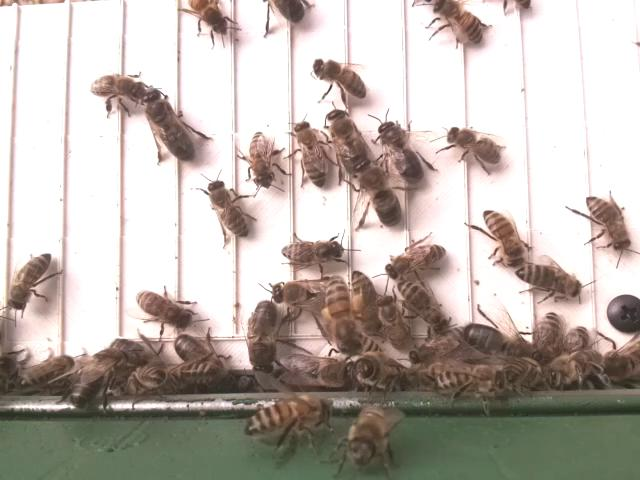Drone: (142, 86, 201, 165), (354, 158, 405, 228), (376, 118, 426, 187), (460, 322, 540, 363), (327, 107, 373, 178), (245, 299, 283, 378)
Worker: (245, 399, 329, 436), (7, 252, 56, 313), (206, 178, 253, 240), (400, 281, 452, 336), (583, 194, 631, 253), (325, 275, 358, 354), (428, 0, 487, 44), (294, 118, 330, 189), (444, 126, 504, 167), (310, 59, 369, 100), (482, 207, 524, 264), (133, 289, 192, 329), (516, 264, 583, 299), (383, 243, 446, 280), (435, 364, 507, 395), (375, 292, 411, 351), (281, 237, 345, 269), (352, 269, 384, 333), (247, 128, 277, 190), (90, 72, 145, 103), (532, 309, 563, 359)
